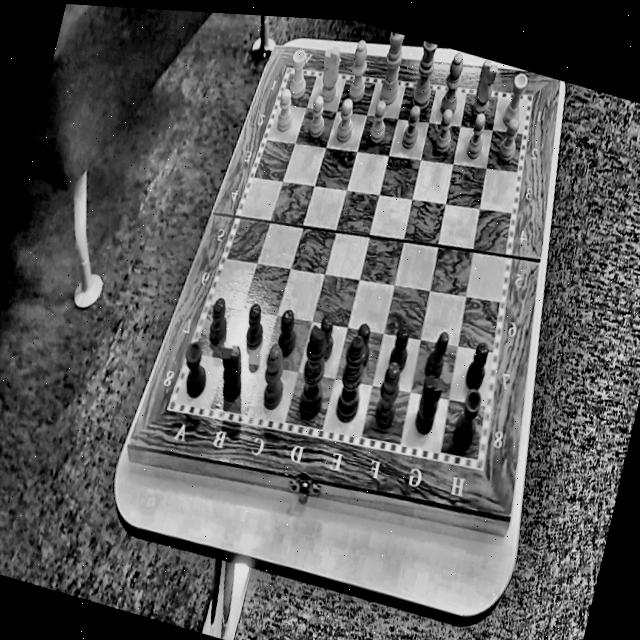chessboard: (176, 74, 528, 457)
